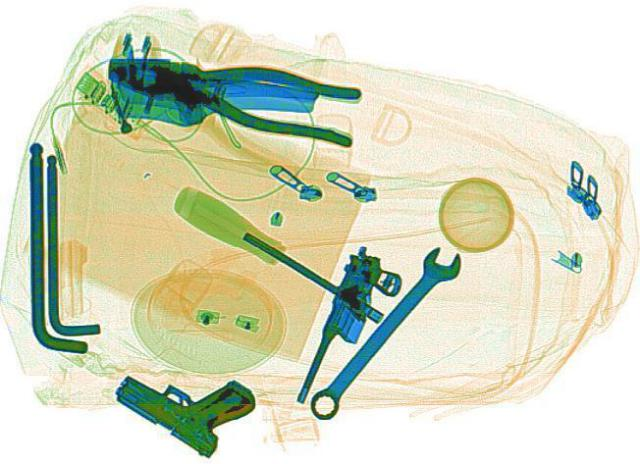Gun: (99, 341, 277, 456), (294, 242, 412, 409)
Pliers: (90, 37, 374, 146)
Wrench: (292, 243, 470, 420)
